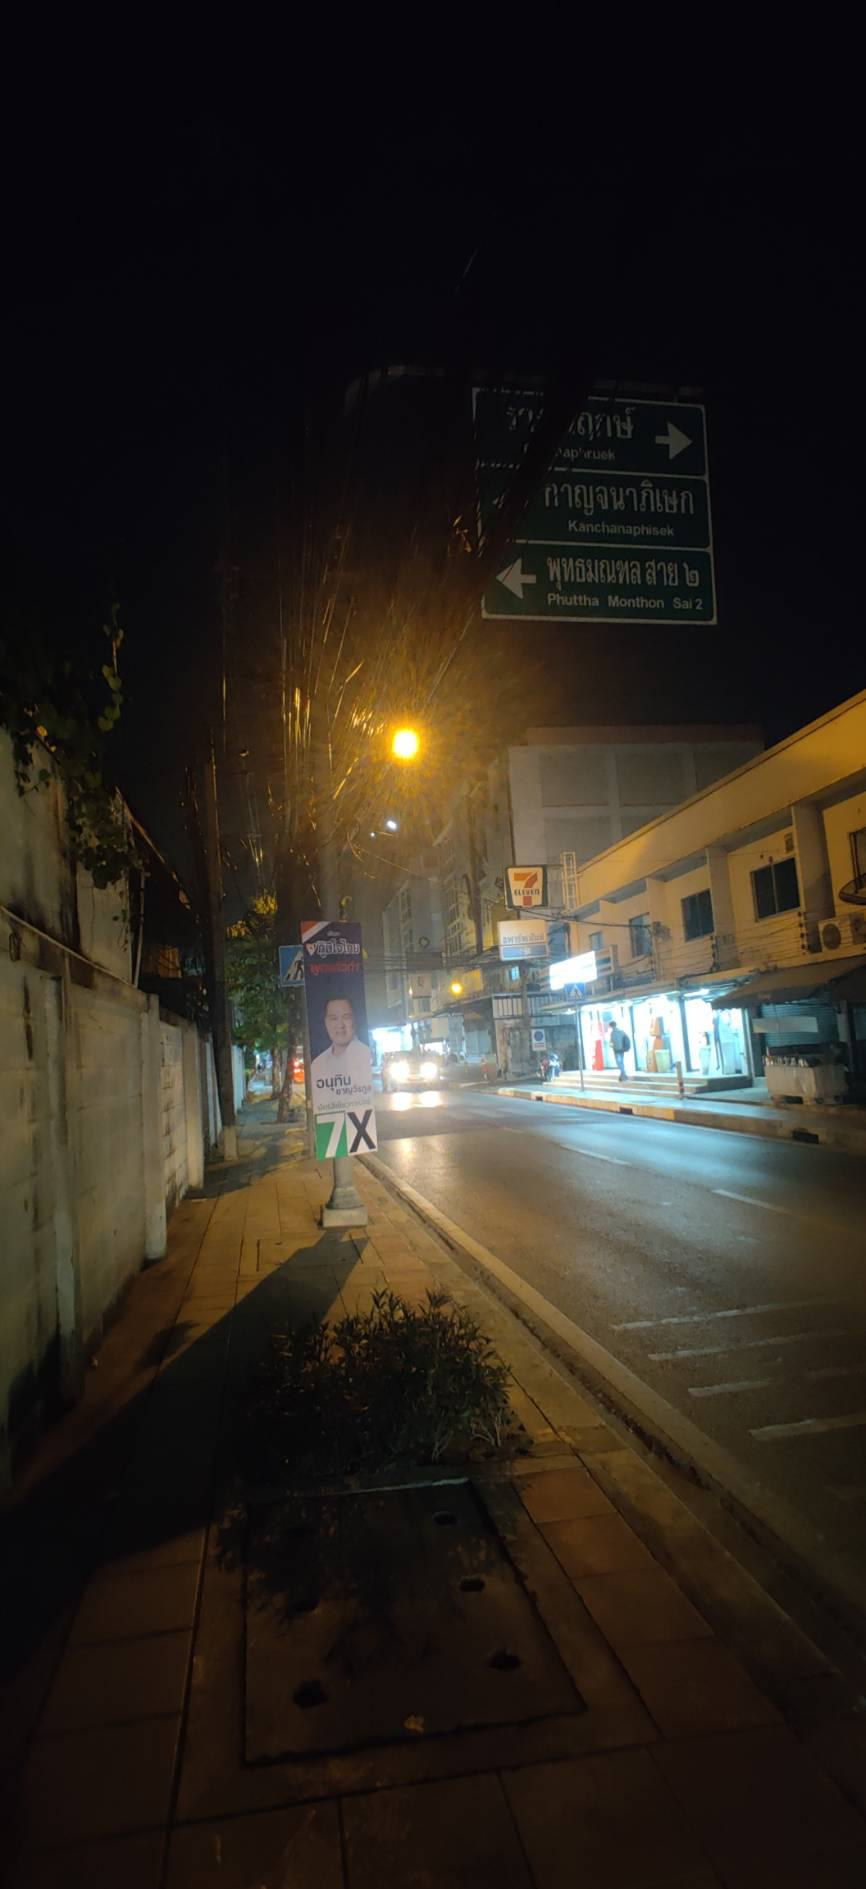Banner: (296, 913, 382, 1164)
